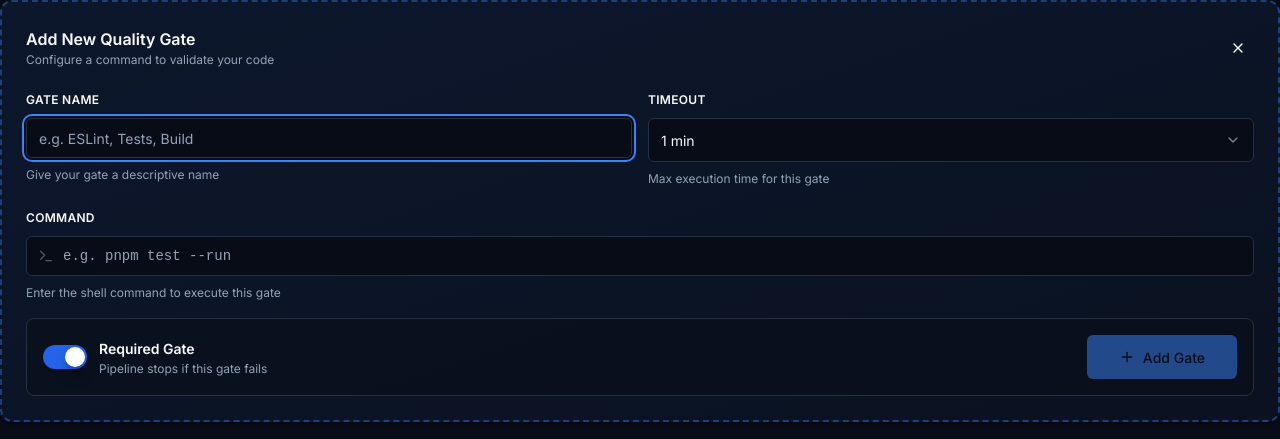
Test: AddGateForm › toggles failOnError switch
Expected: the text "Required Gate" is shown, [99,340,195,357]
Click the switch at (65, 357), box [43,345,87,369]
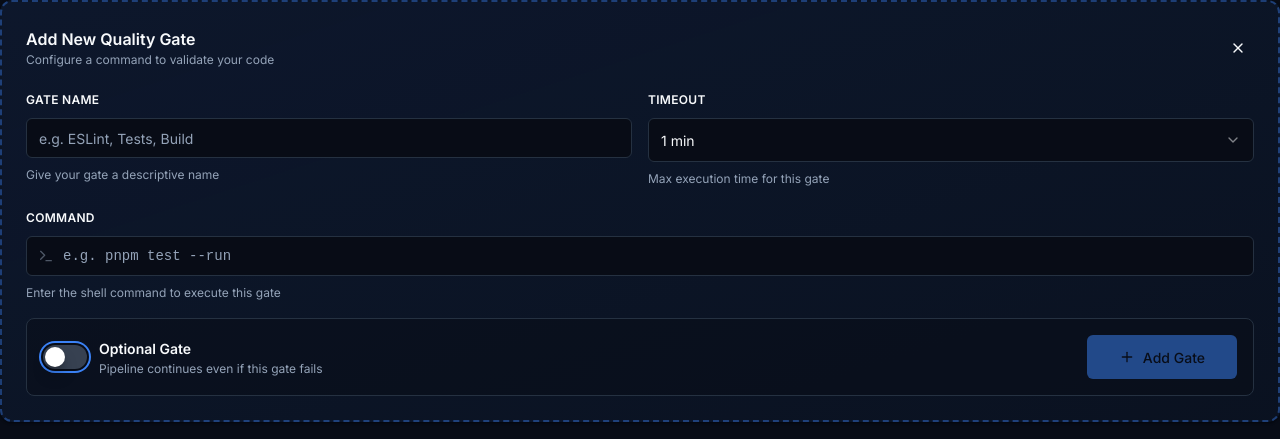
Result: the text "Optional Gate" is shown at [99,340,191,357]
